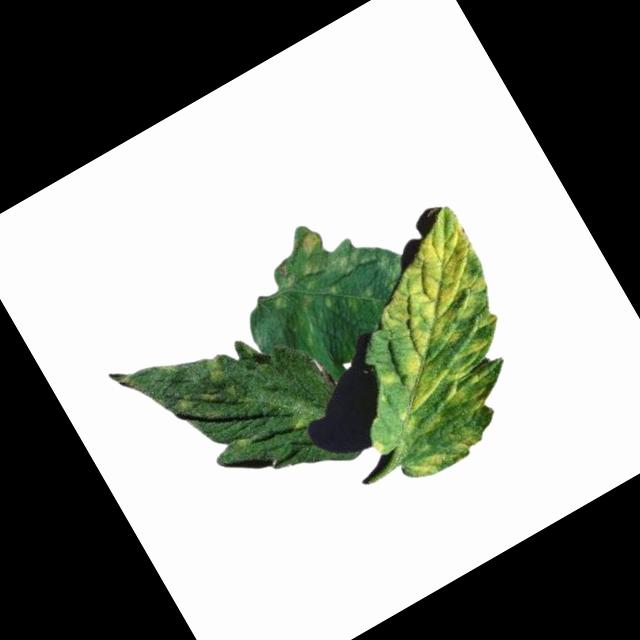Leaf_Mold: (289, 204, 566, 494), (261, 212, 368, 307), (166, 385, 208, 421), (196, 348, 231, 385)
